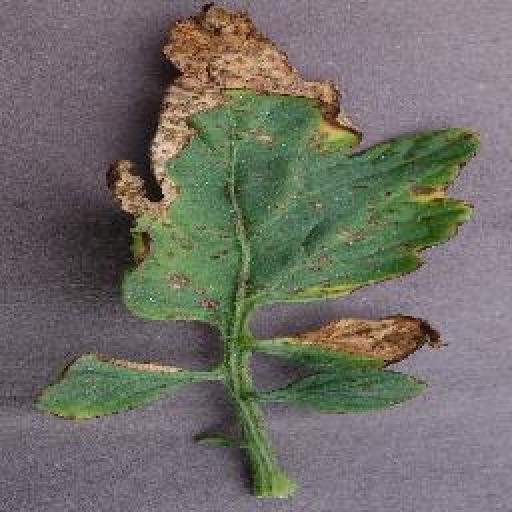Bacterial Spot: (28, 1, 485, 433)
